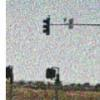traffic lights: (43, 16, 51, 35)
